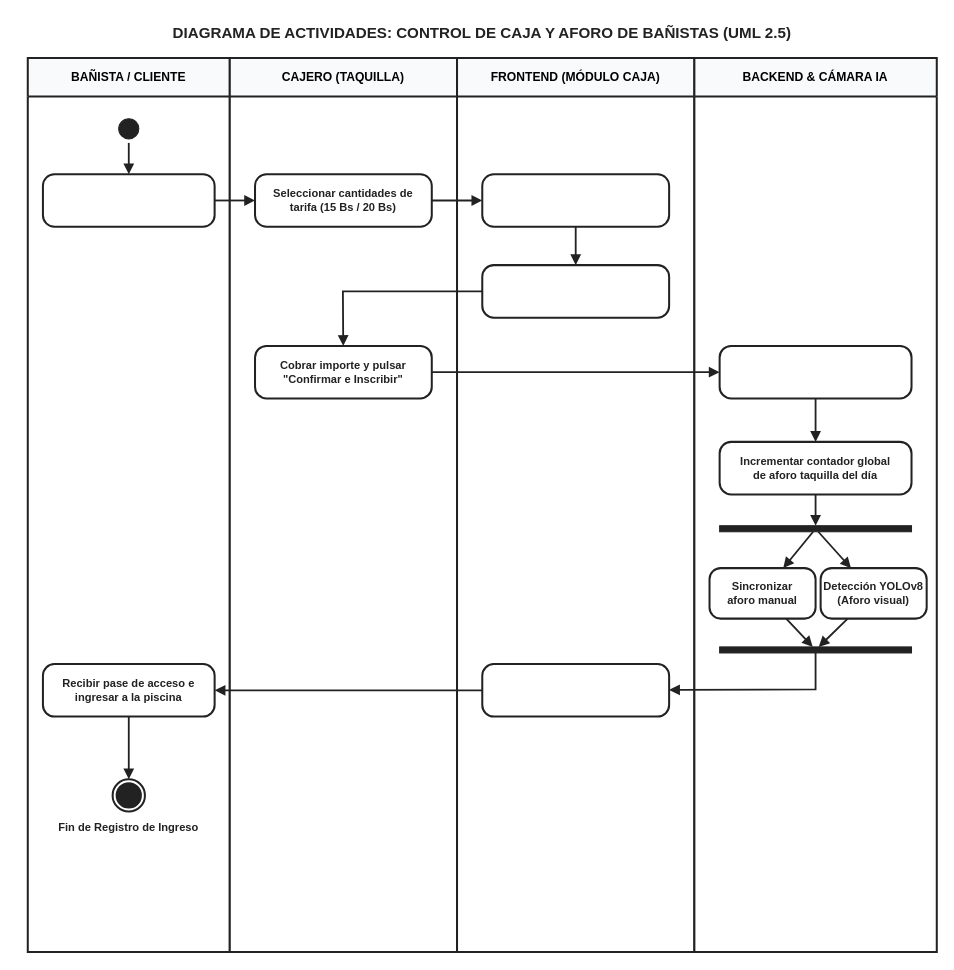
This 954x970 diagram has some shape labels left out. Each missing label, with the centre of its shape:
"Actualizar fila de historial, tarjetas de total y aforo" belongs at point (575, 690).
"Calcular importe total y total personas en vivo" belongs at point (575, 200).
"Mostrar resumen de pago y habilitar botón confirmar" belongs at point (575, 291).
"Registrar transacción en BD con hora y monto recaudado" belongs at point (815, 371).
"Solicitar compra de entradas e indicar número de personas" belongs at point (128, 200).
